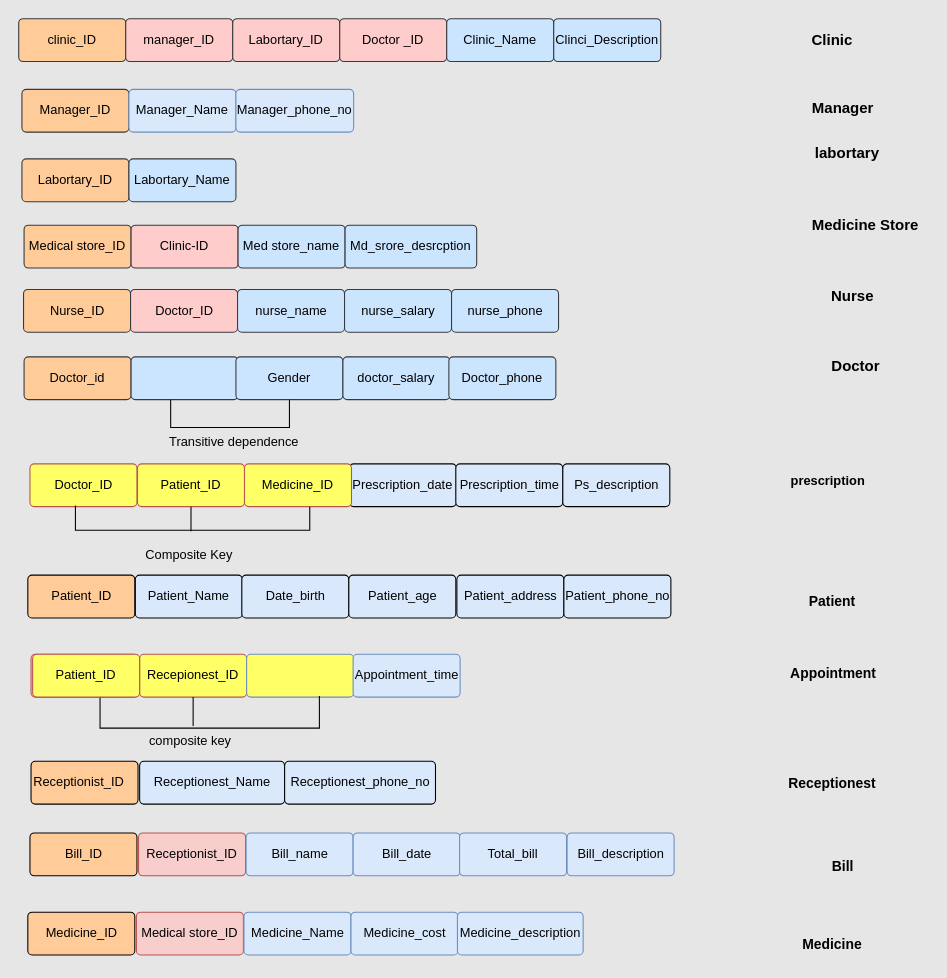
Some shapes in this 947 by 978 pixel diagram are drawn without their labels. Here are the shapes that lost their labels. From the top down, the centre of each, then its label:
At (x=184, y=378): "Doctor_name".
At (x=300, y=675): "Appointment_Date".
